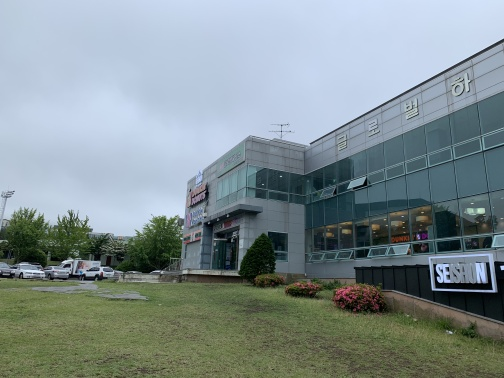Global House: (177, 84, 503, 295)
